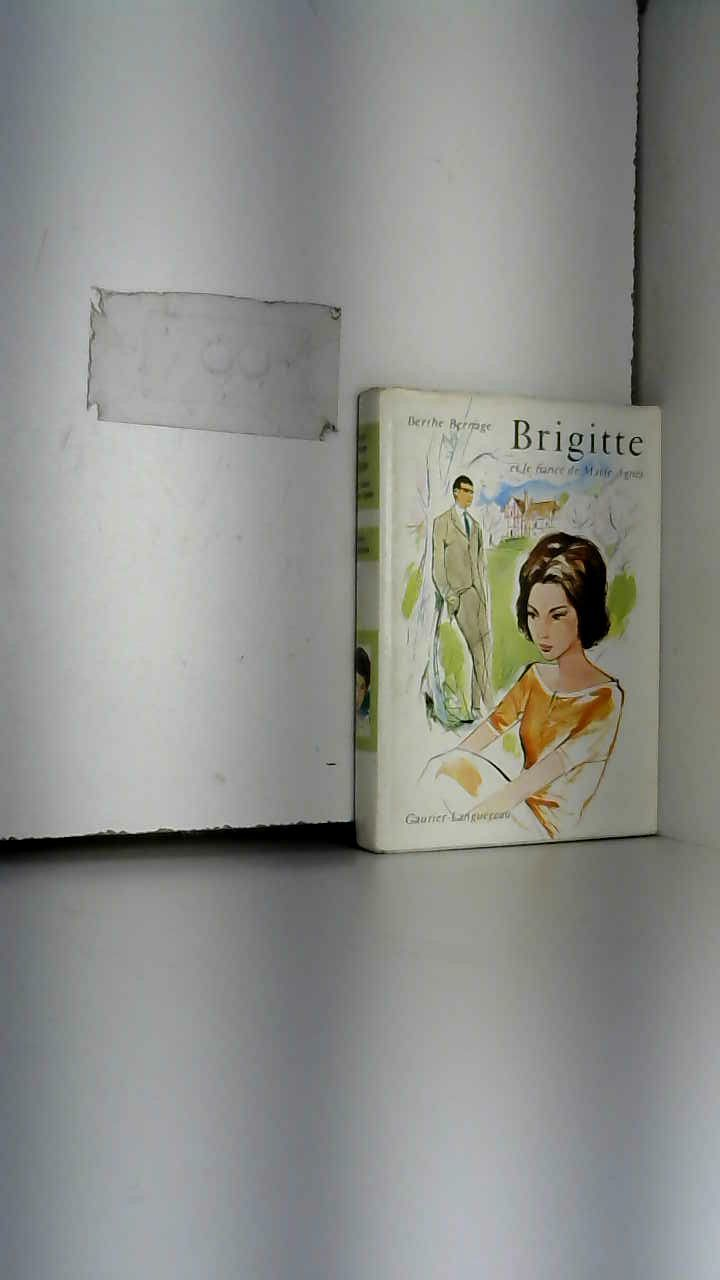book: (325, 349, 692, 903)
